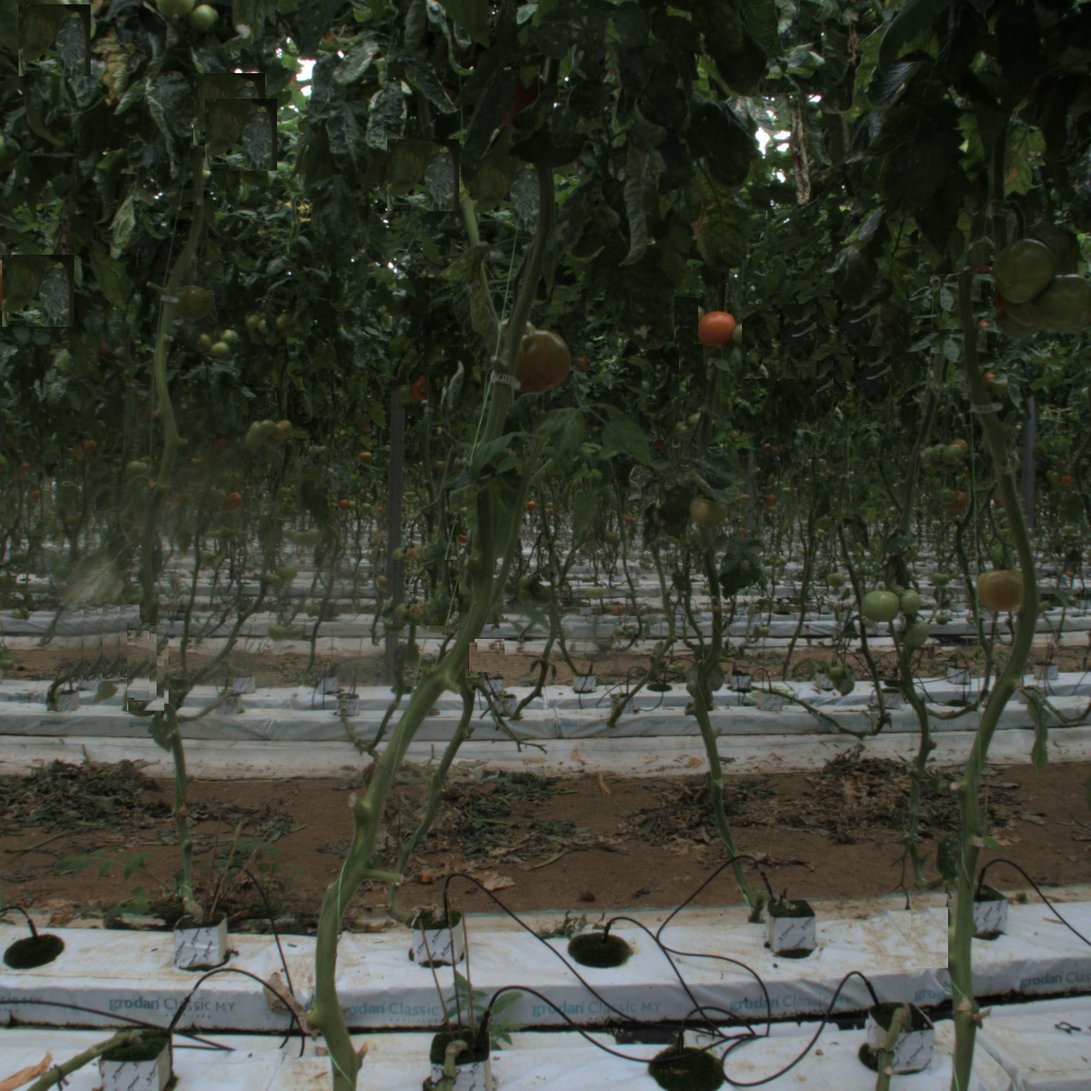['unripe', 'semi-ripe', 'fully-ripe']: (497, 323, 572, 397), (1025, 271, 1090, 337), (990, 236, 1055, 302), (862, 584, 902, 623)
